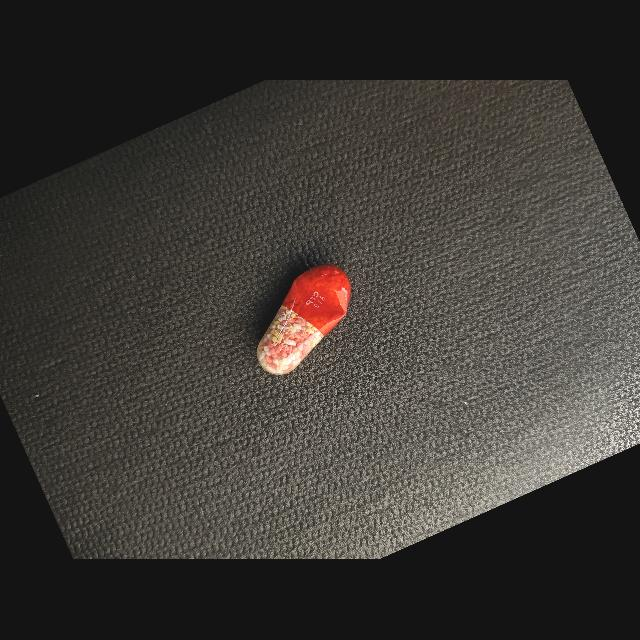Defective Capsule: (257, 265, 351, 376)
